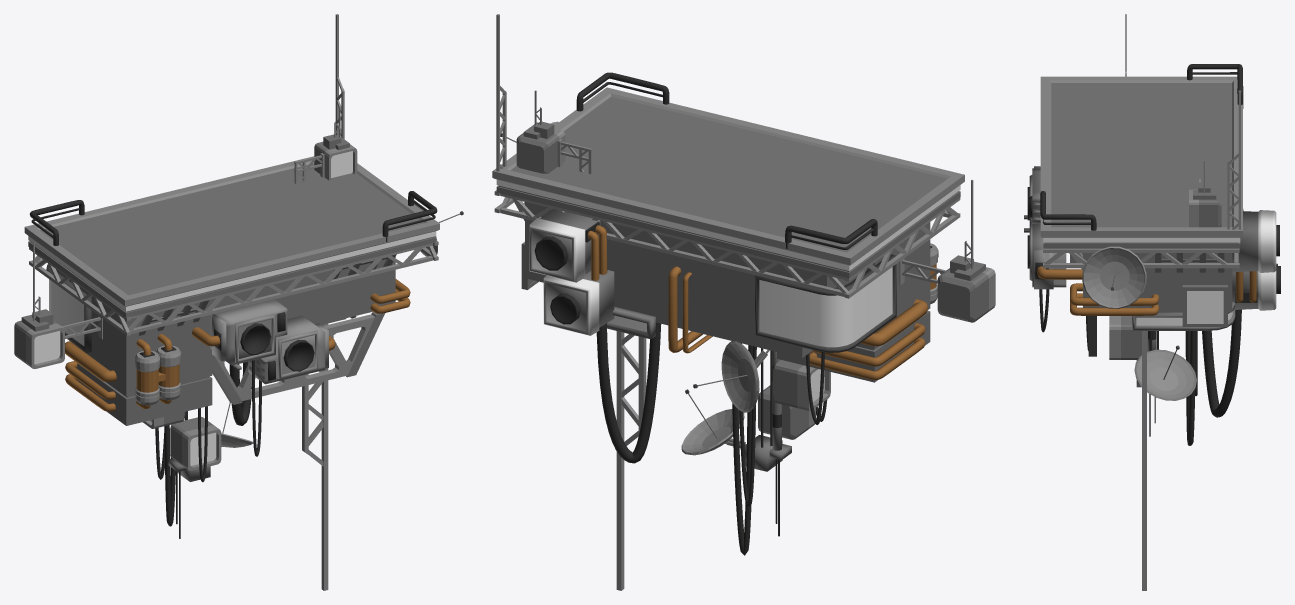
The model's file is quaternius-cyberpunk-pack-platform-4x2.glb.
3 renders of one model, left to right at view 1: azimuth 30°, elevation 25°; view 2: azimuth 150°, elevation 25°; view 3: azimuth 270°, elevation 25°, orthographic. The views are drawn at different scales.
Visible parts, largest first — view 1: Platform_4x2; view 2: Platform_4x2; view 3: Platform_4x2.
Part boxes in pixels (bbox=[...]): Platform_4x2: bbox=[14, 14, 463, 590]; Platform_4x2: bbox=[492, 14, 995, 590]; Platform_4x2: bbox=[1024, 14, 1280, 590].
Size of the model in its own units: 5.32 by 6.16 by 2.71.
